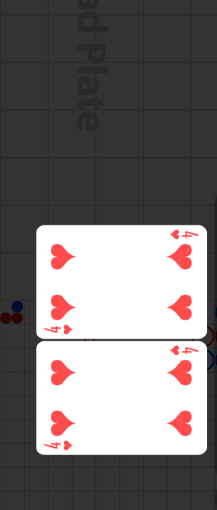4H: (168, 228, 199, 241), (168, 345, 199, 358)
